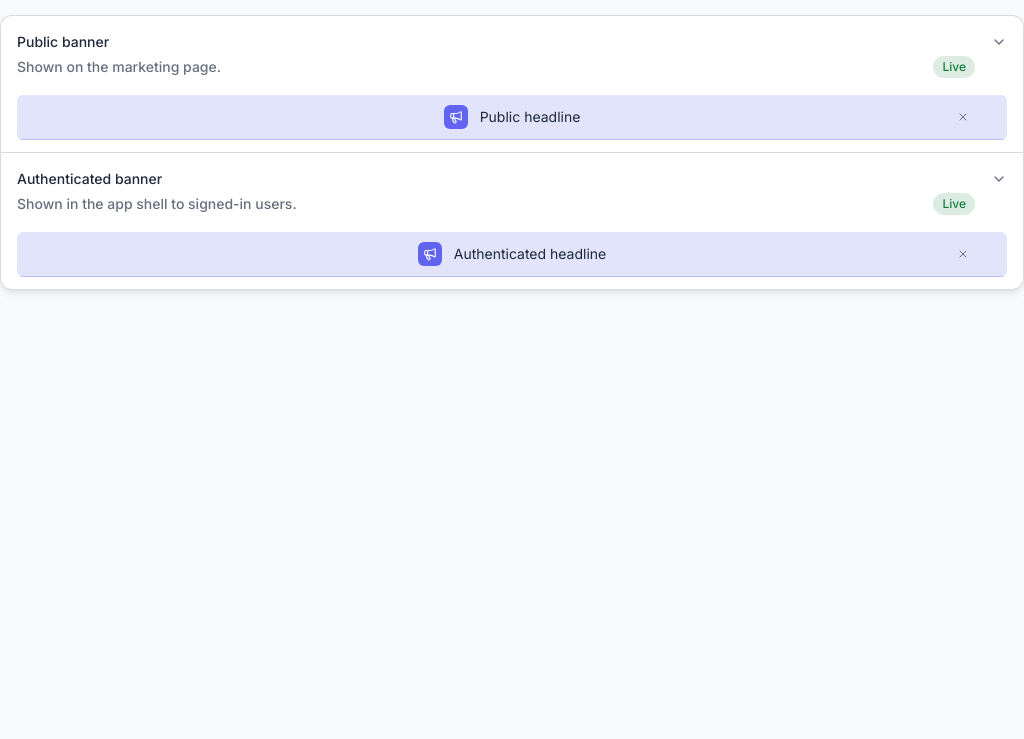
Test: BannerSettingsSection › should keep only one banner accordion open at a time
This screenshot has width=1024, height=739.
Click the button "Public banner Shown on the marketing page. Live" at (63, 42), box [17,16,1007,95]
(page scrolled)
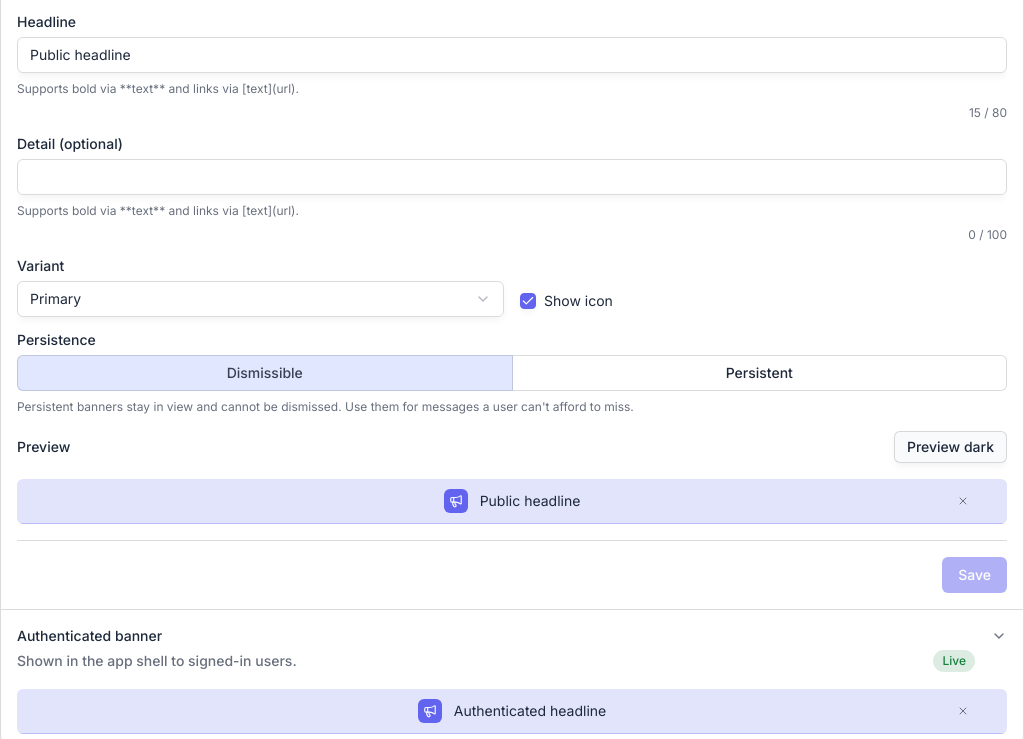
Check: the field labelled "Headline" holds "Public headline", box [17,37,1007,73]
Click the button "Authenticated banner" at (90, 635), box [17,610,1007,689]
(page scrolled)
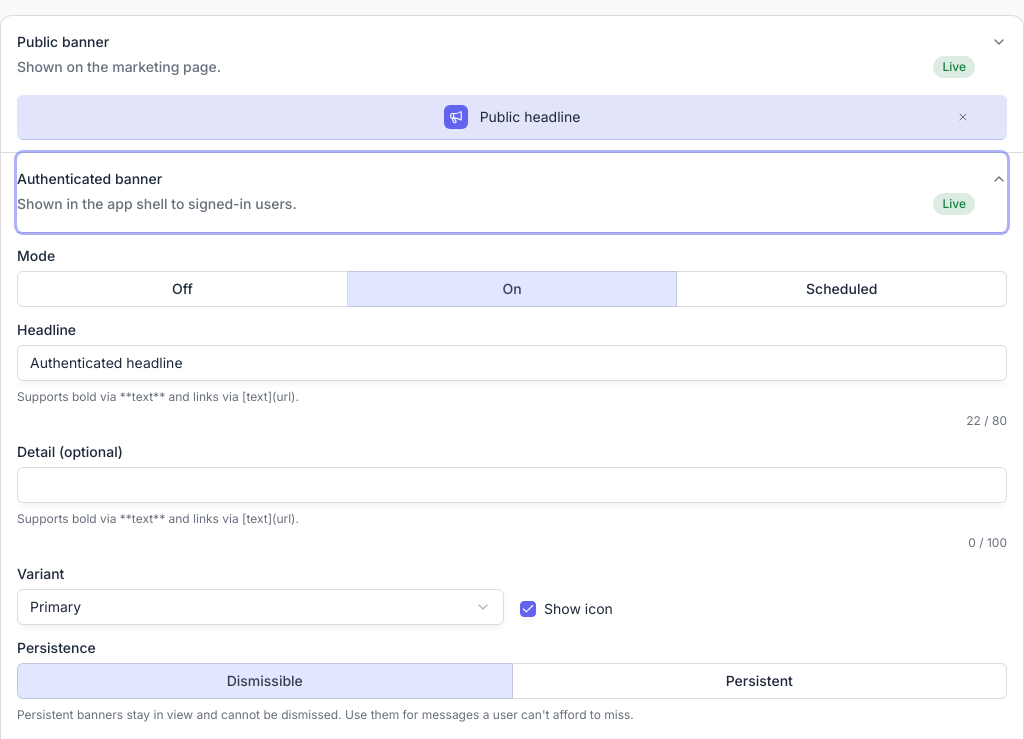
Check: the field labelled "Headline" holds "Authenticated headline", box [17,344,1007,380]
Check: the number of fields labelled "Headline" is 1, box [17,344,1007,380]
